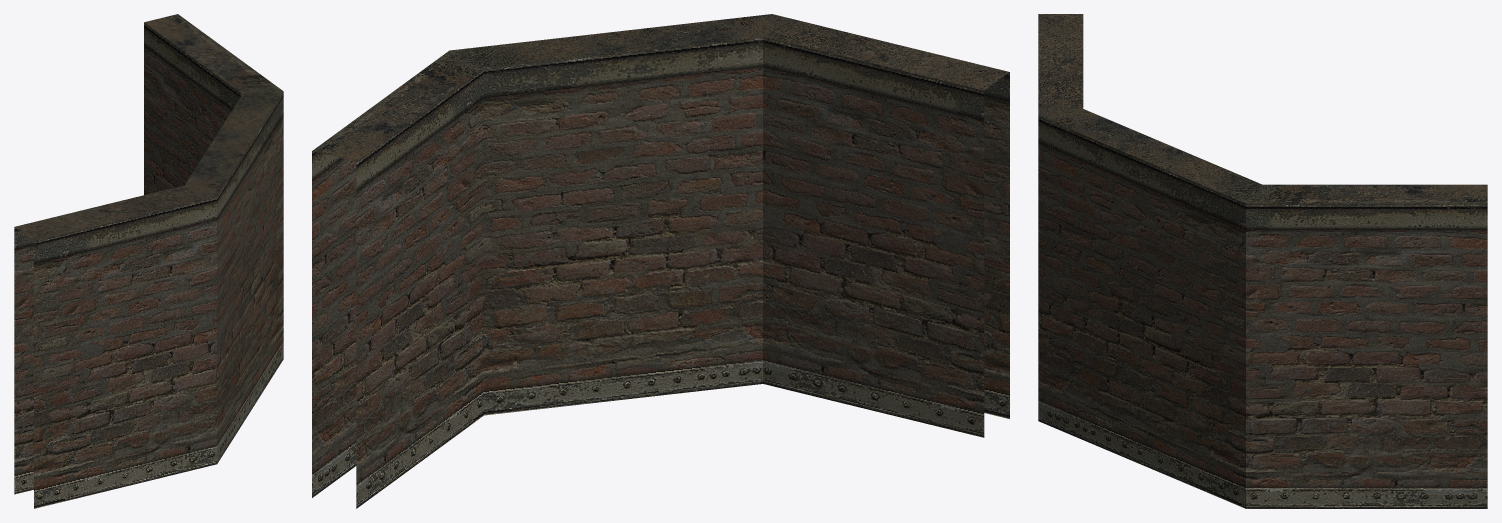
File: wall_hr_1_m2a_1.glb
3 renders of one model, left to right at view 1: azimuth 30°, elevation 25°; view 2: azimuth 150°, elevation 25°; view 3: azimuth 270°, elevation 25°, orthographic. The views are drawn at different scales.
Visible parts, largest first — view 1: wall_hr_1_m2a_1; view 2: wall_hr_1_m2a_1; view 3: wall_hr_1_m2a_1.
Part boxes in pixels (left/top/right/bottom): wall_hr_1_m2a_1: left=14, top=14, right=283, bottom=508; wall_hr_1_m2a_1: left=312, top=14, right=1009, bottom=508; wall_hr_1_m2a_1: left=1038, top=14, right=1487, bottom=508.
Size of the model in its own units: 4 by 3 by 4.
Materials: 2 (2 with a texture image).
